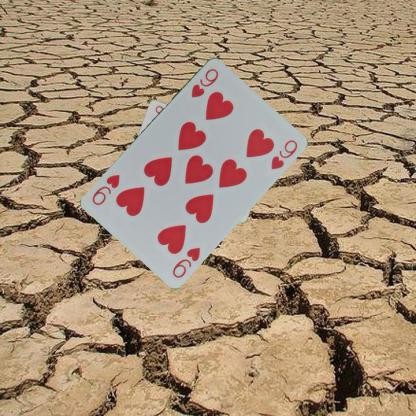9h: (169, 244, 202, 279), (188, 65, 220, 99)
